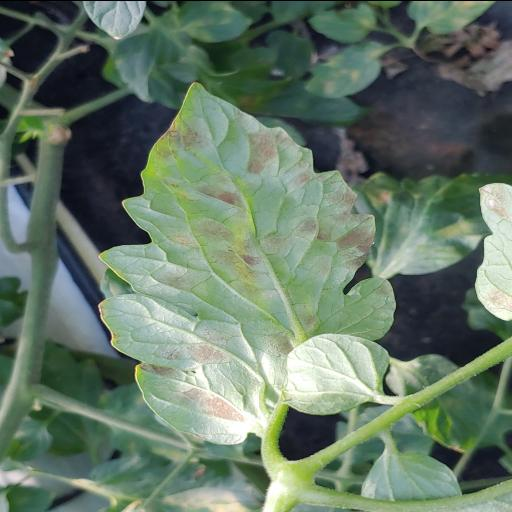disease_tomato: (92, 80, 400, 446)
